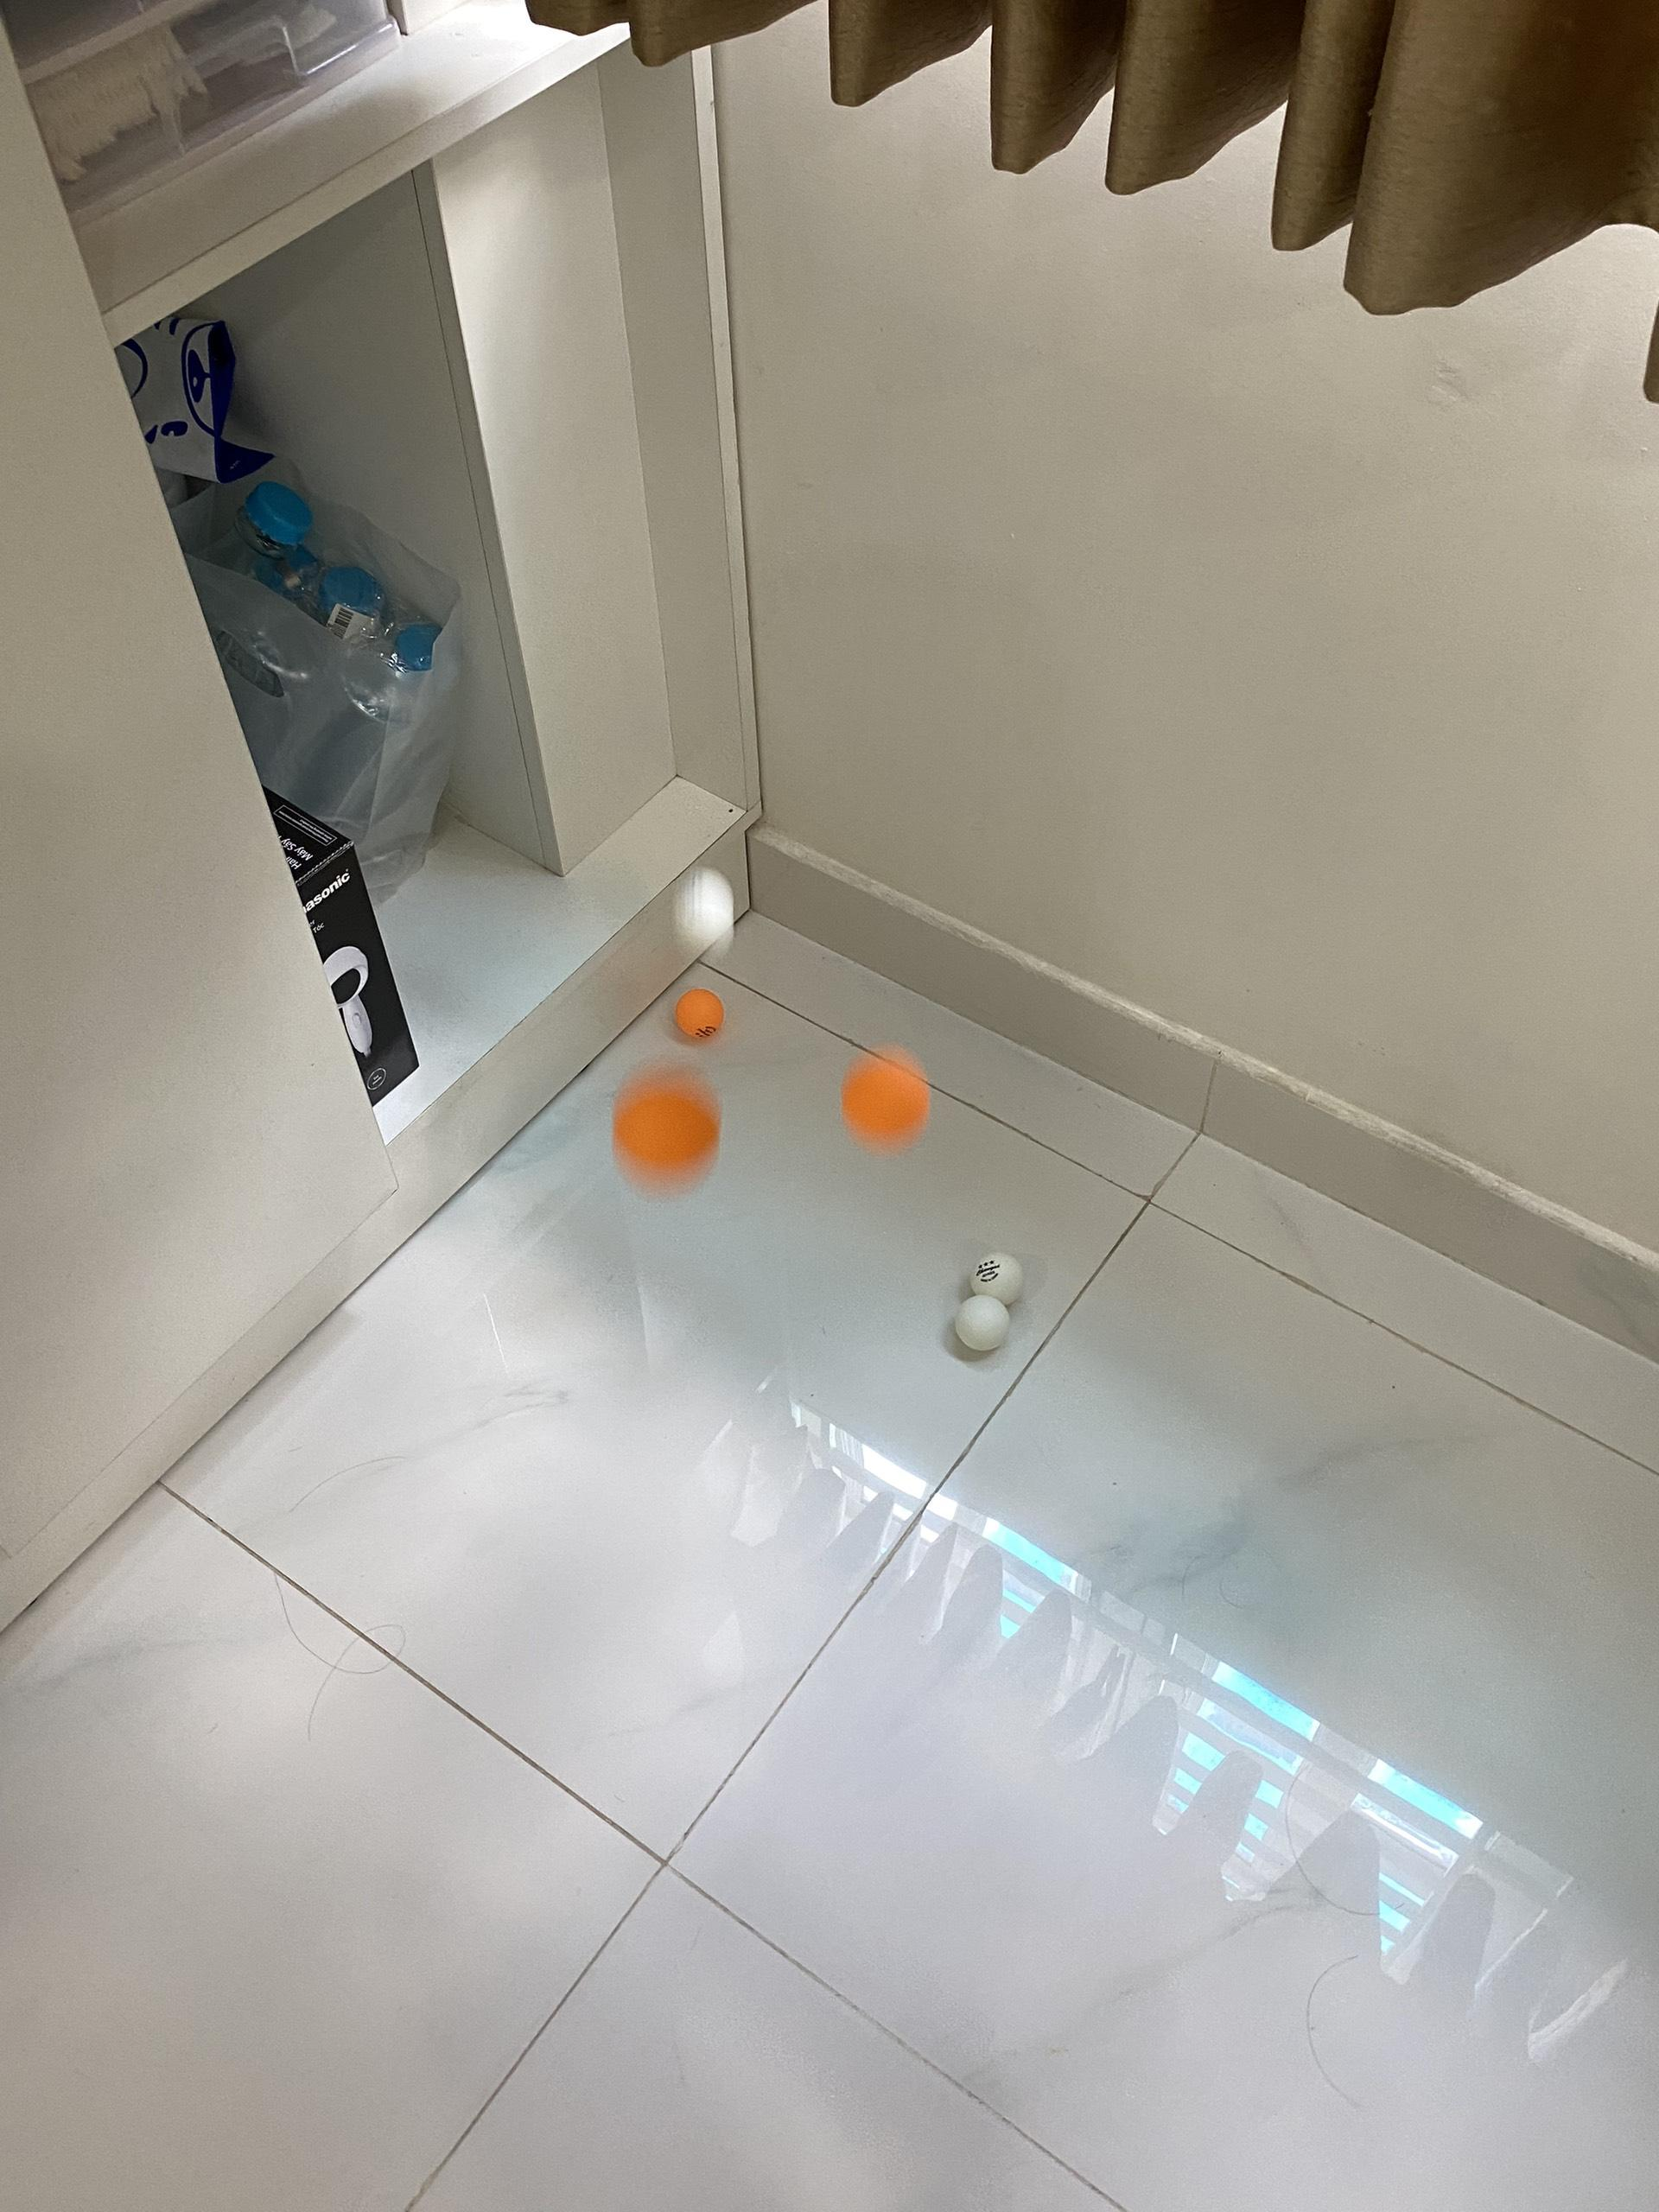oball: (613, 1065, 726, 1178), (841, 1043, 931, 1143), (671, 988, 726, 1039)
